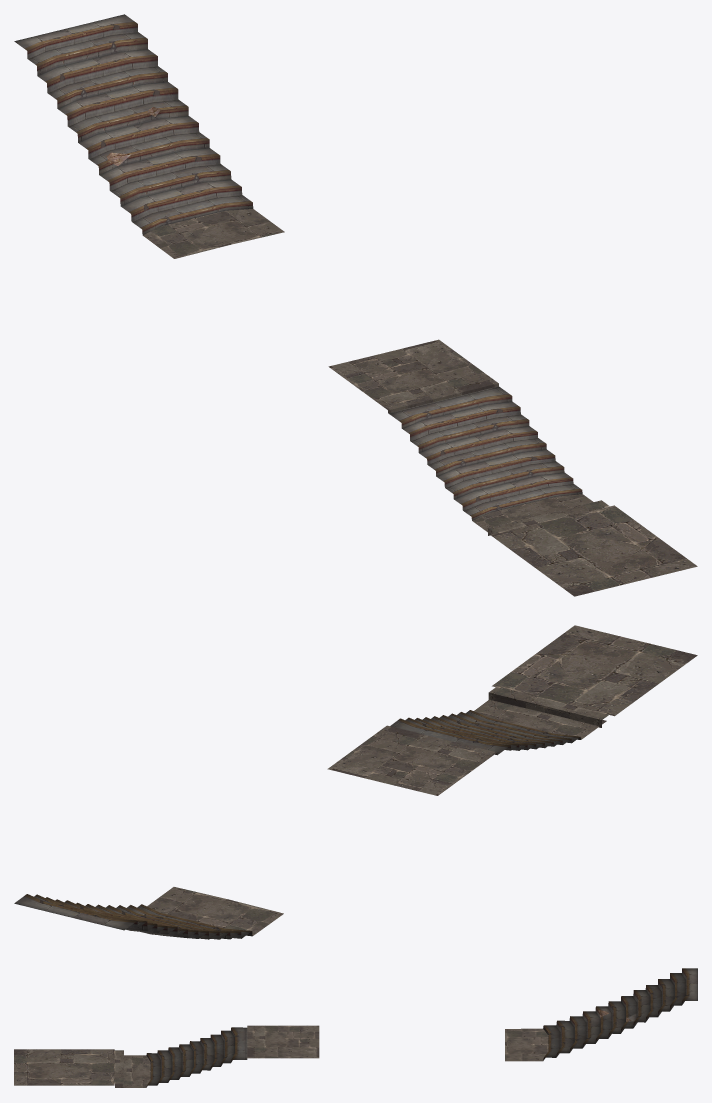
Rendered from louti.FBX.
3 views of the same model, one above another, from view 1: azimuth 30°, elevation 25°; view 2: azimuth 150°, elevation 25°; view 3: azimuth 270°, elevation 25° (orthographic). The views are drawn at different scales.
Visible parts, largest first — view 1: s_louti01, louti, s_louti002; view 2: louti, s_louti01, s_louti002; view 3: louti, s_louti01, s_louti002.
Boxes of the visible parts, x1,y1,x2,y2 form: s_louti01: (14,14,253,234); louti: (143,209,697,596); s_louti002: (388,386,582,520); louti: (147,625,697,935); s_louti01: (14,894,252,939); s_louti002: (390,710,580,754); louti: (14,1025,548,1087); s_louti01: (543,968,697,1060); s_louti002: (146,1027,247,1087).
Size of the model in its own units: 795 by 894 by 6330.
